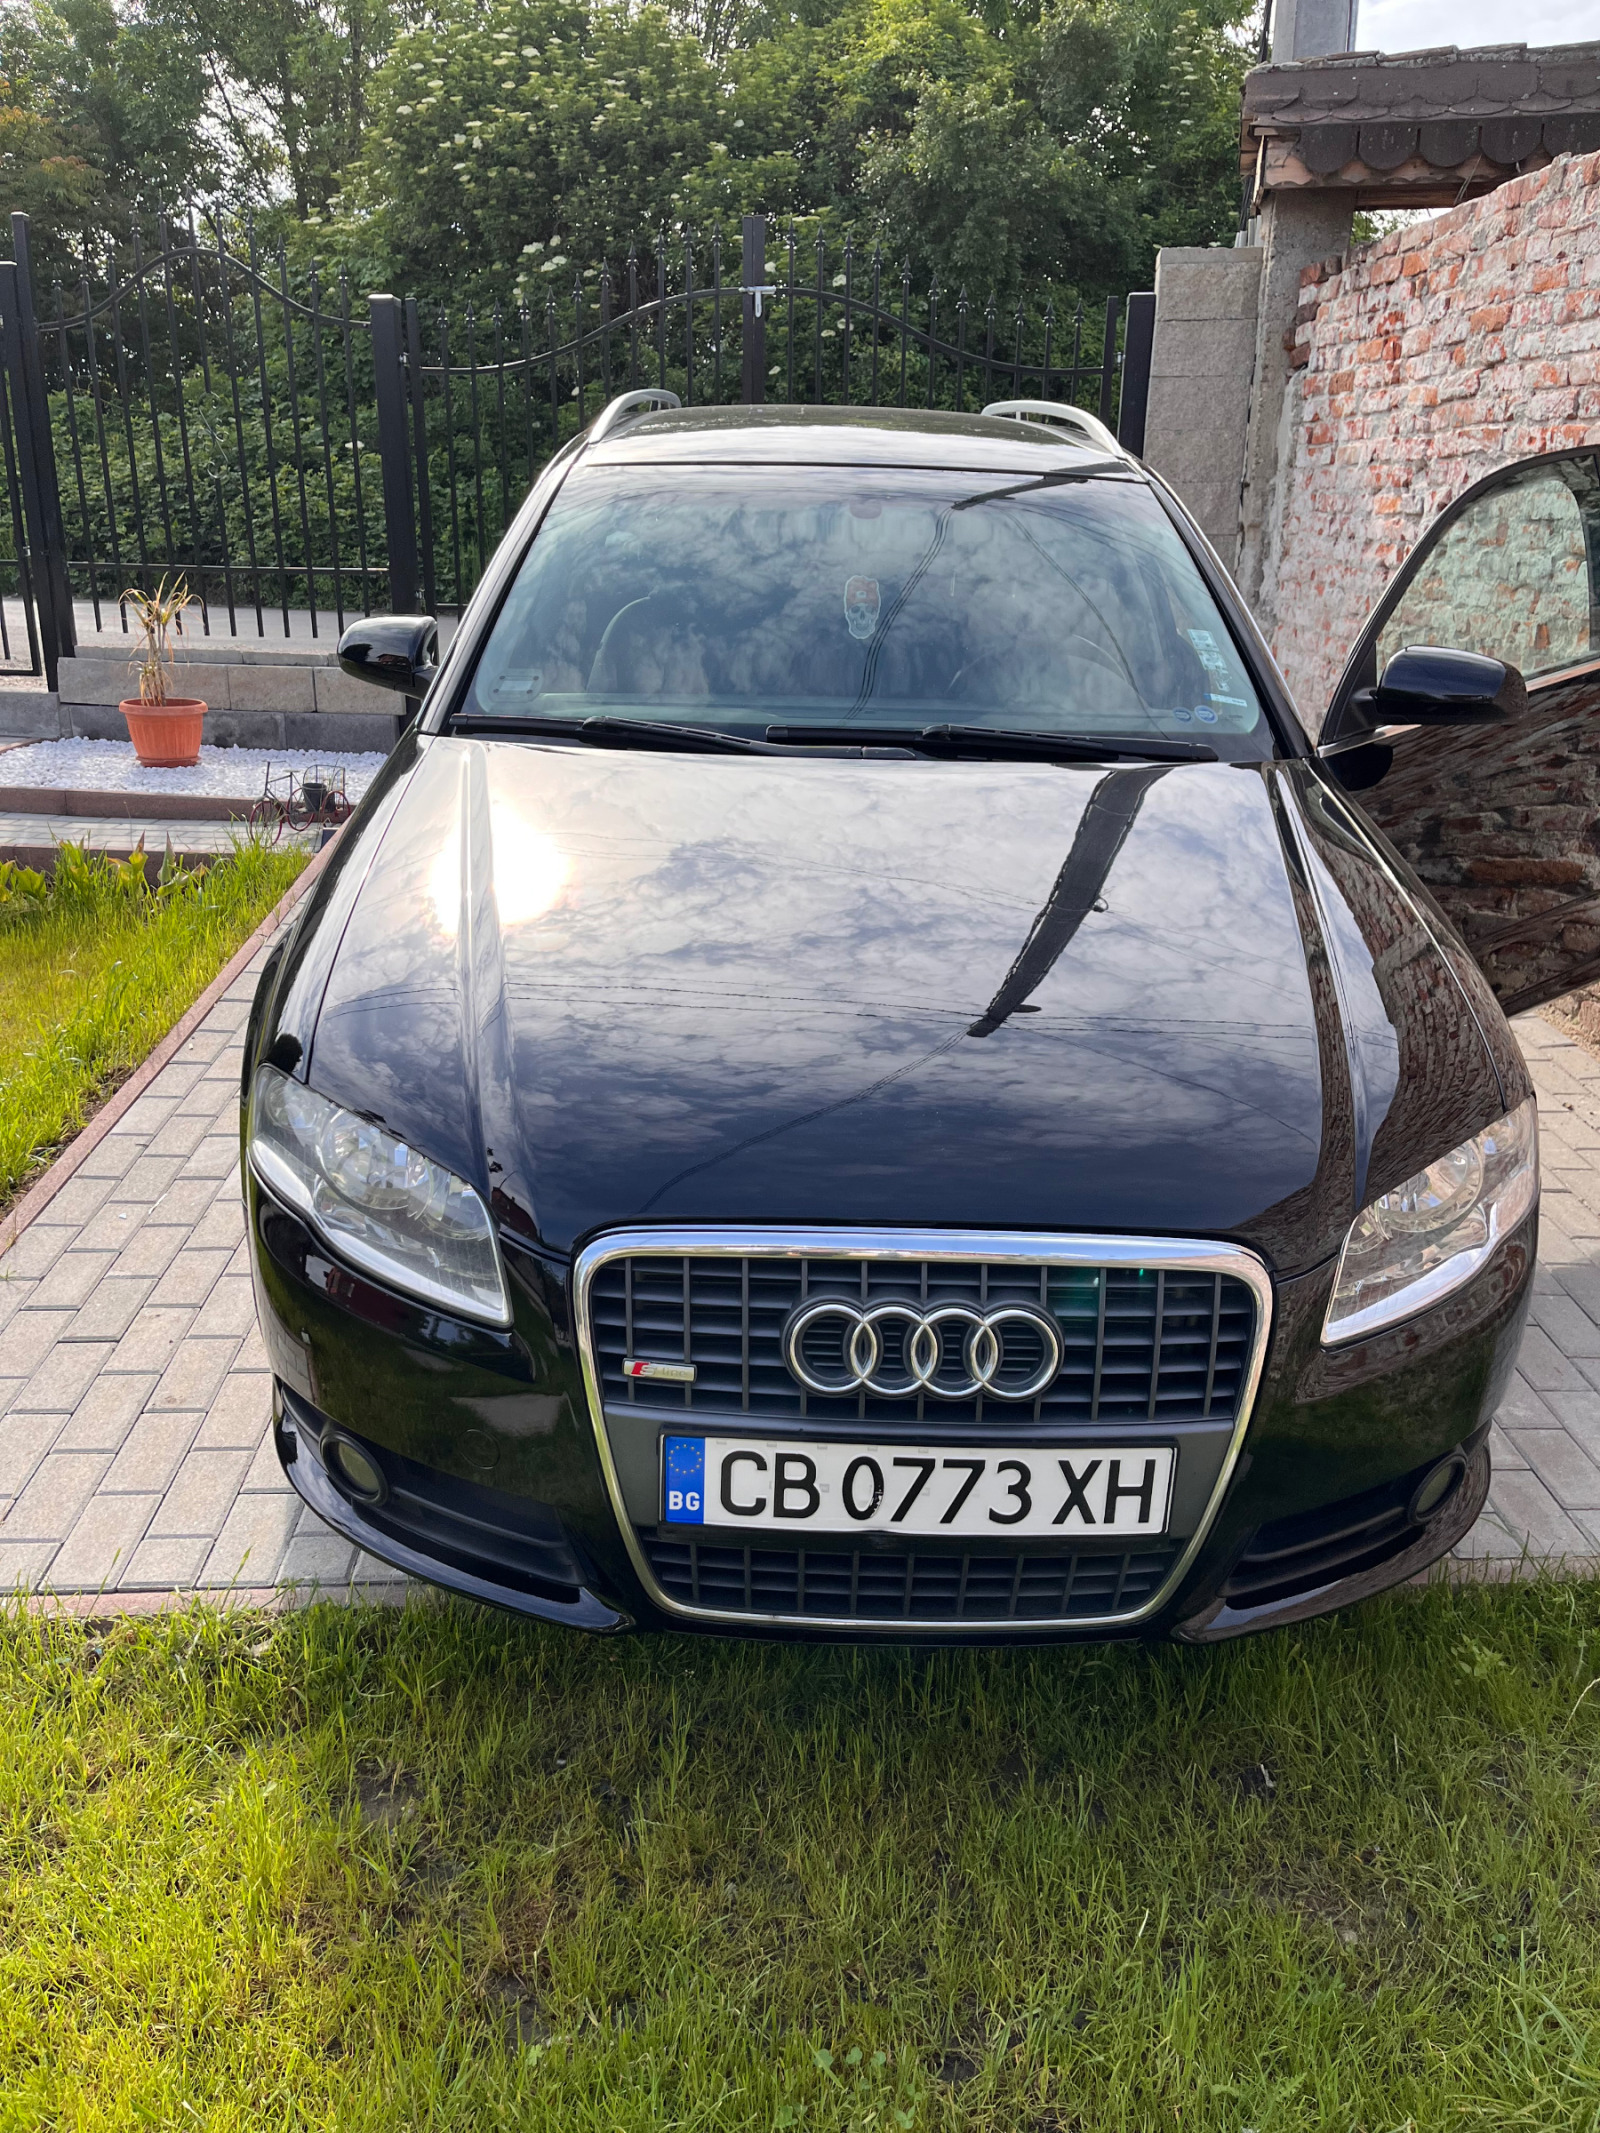registration_plate: (658, 1427, 1186, 1544)
